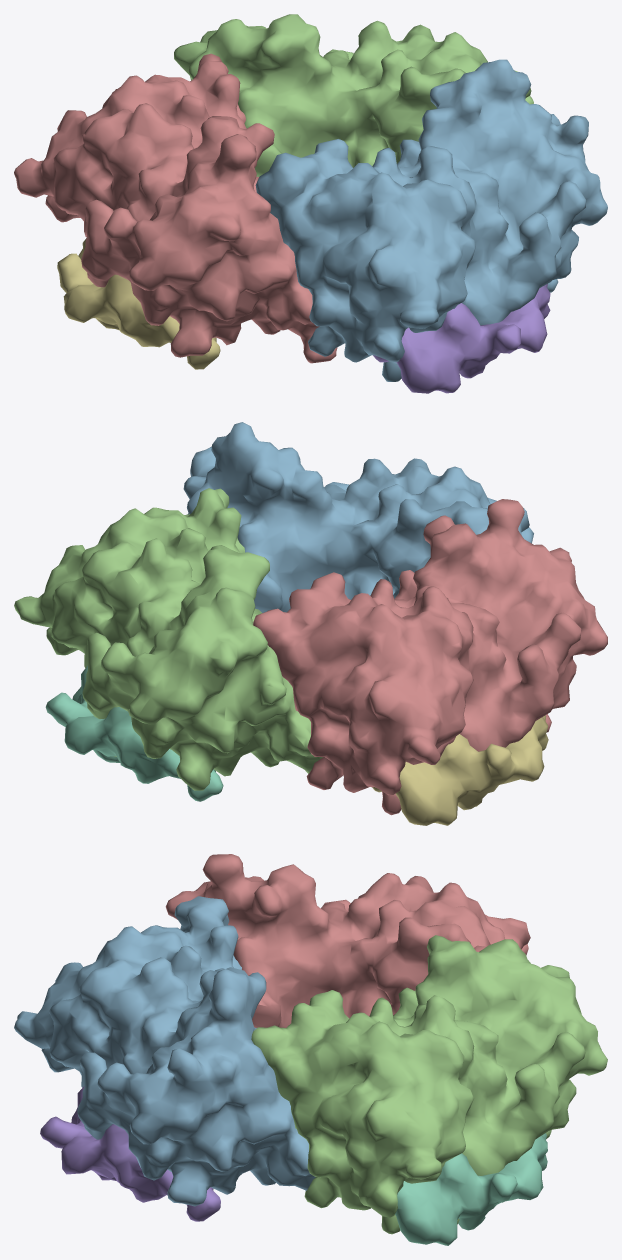
File: pcna.glb
The picture shows the model from 3 angles, top to bottom: view 1: azimuth 30°, elevation 25°; view 2: azimuth 150°, elevation 25°; view 3: azimuth 270°, elevation 25°; orthographic projection.
Visible parts, largest first — view 1: pcna; view 2: pcna; view 3: pcna.
Part boxes in pixels (bbox=[...]): pcna: bbox=[14, 14, 607, 393]; pcna: bbox=[14, 422, 607, 825]; pcna: bbox=[14, 854, 607, 1245].
Size of the model in its own units: 9.72 by 4.82 by 10.05.
